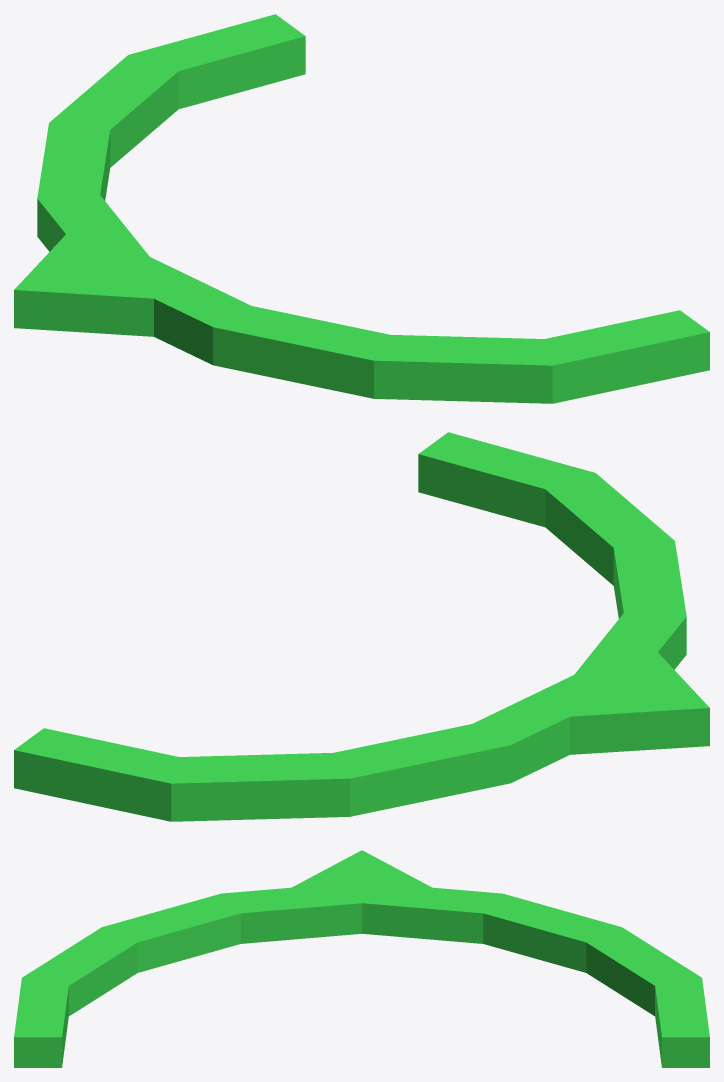
The model's file is Pointer.fbx.
The picture shows the model from 3 angles, top to bottom: view 1: azimuth 30°, elevation 25°; view 2: azimuth 150°, elevation 25°; view 3: azimuth 270°, elevation 25°; orthographic projection. The views are drawn at different scales.
Visible parts, largest first — view 1: Circle; view 2: Circle; view 3: Circle.
Boxes of the visible parts, x1=… form: Circle: x1=14, y1=14, x2=709, y2=403; Circle: x1=14, y1=432, x2=709, y2=821; Circle: x1=14, y1=850, x2=709, y2=1067.
Bounding box in the file's own units: 112 × 8.53 × 176.
